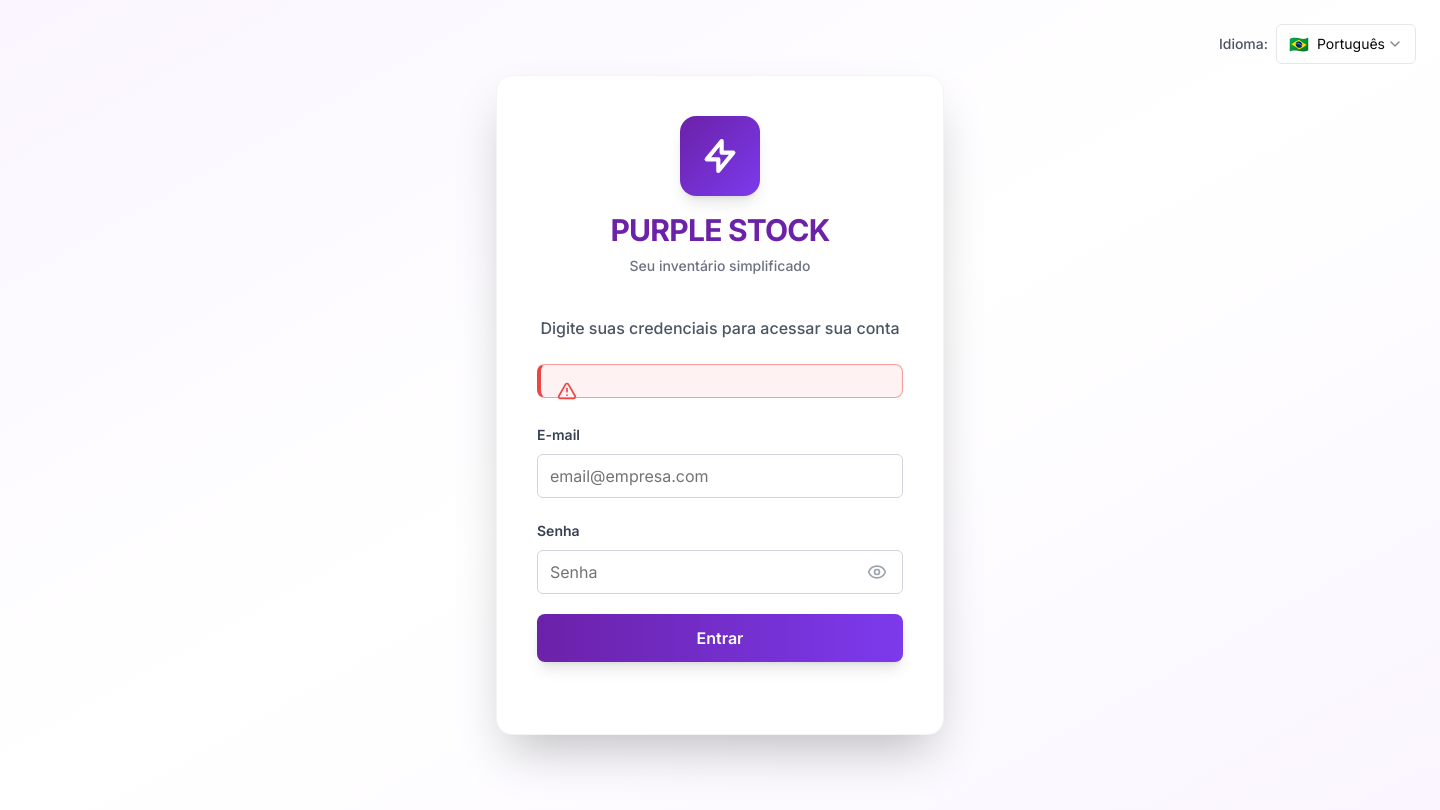
Test: LoginPage › shows invalid credentials only for 401
This screenshot has width=1440, height=810.
Step 1. Type "ariel.graunadigital@gmail.com" into the field labelled "E-mail" → {"x": 720, "y": 476}, box [537,454,903,498]
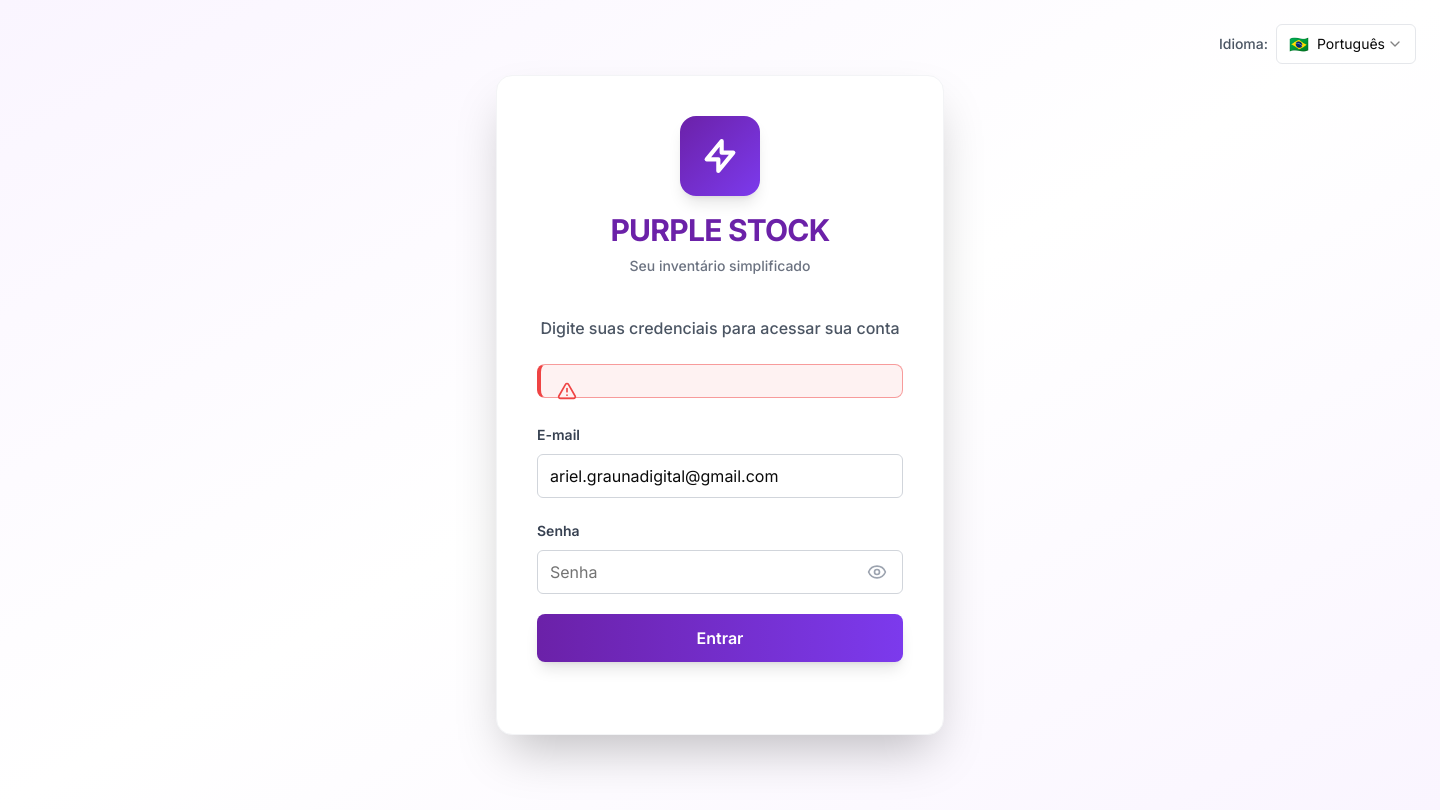
Step 2. Type "wrong-password" into the password field labelled "Senha" → {"x": 720, "y": 572}, box [537,550,903,594]
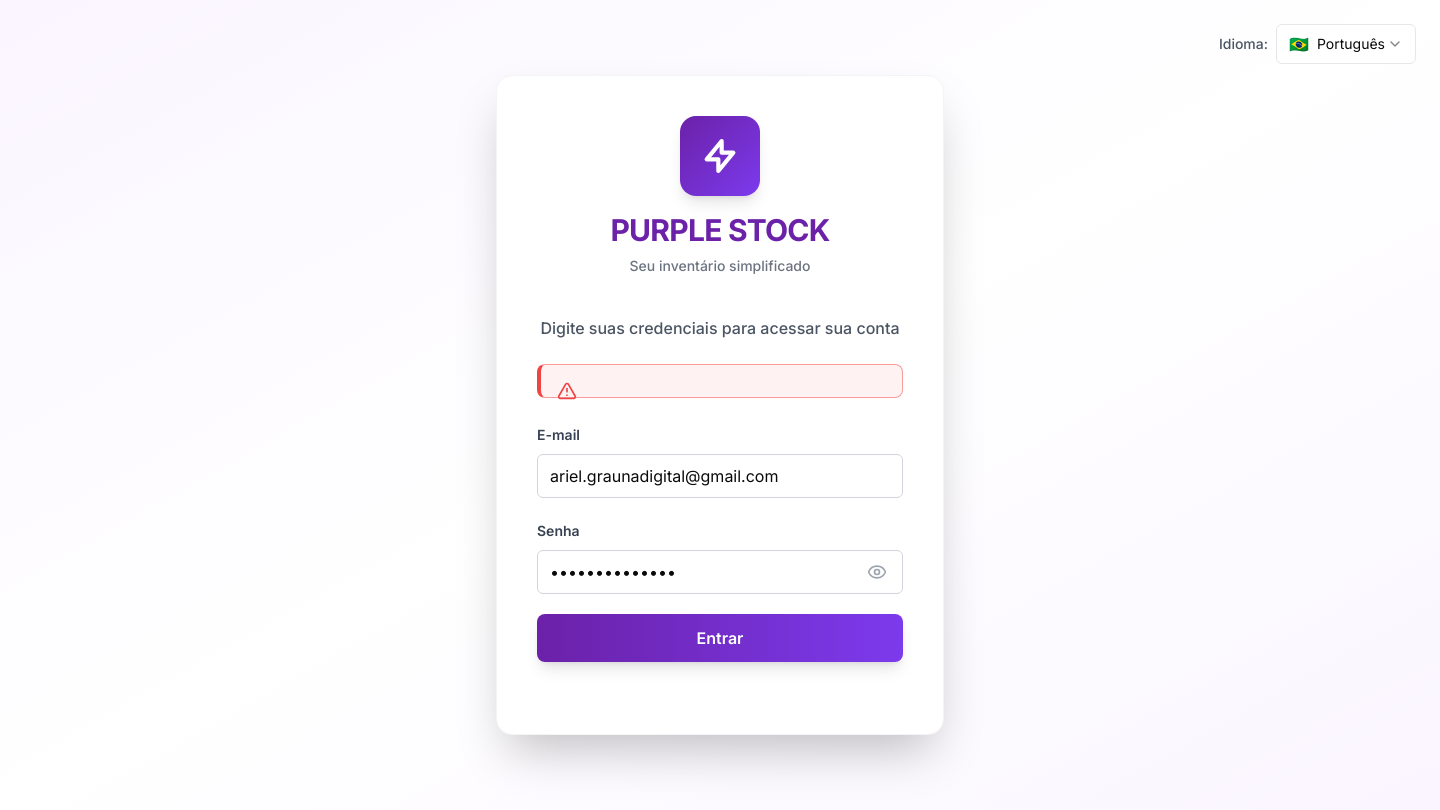
Step 3. Click the button "Entrar" → {"x": 720, "y": 638}, box [537,614,903,662]
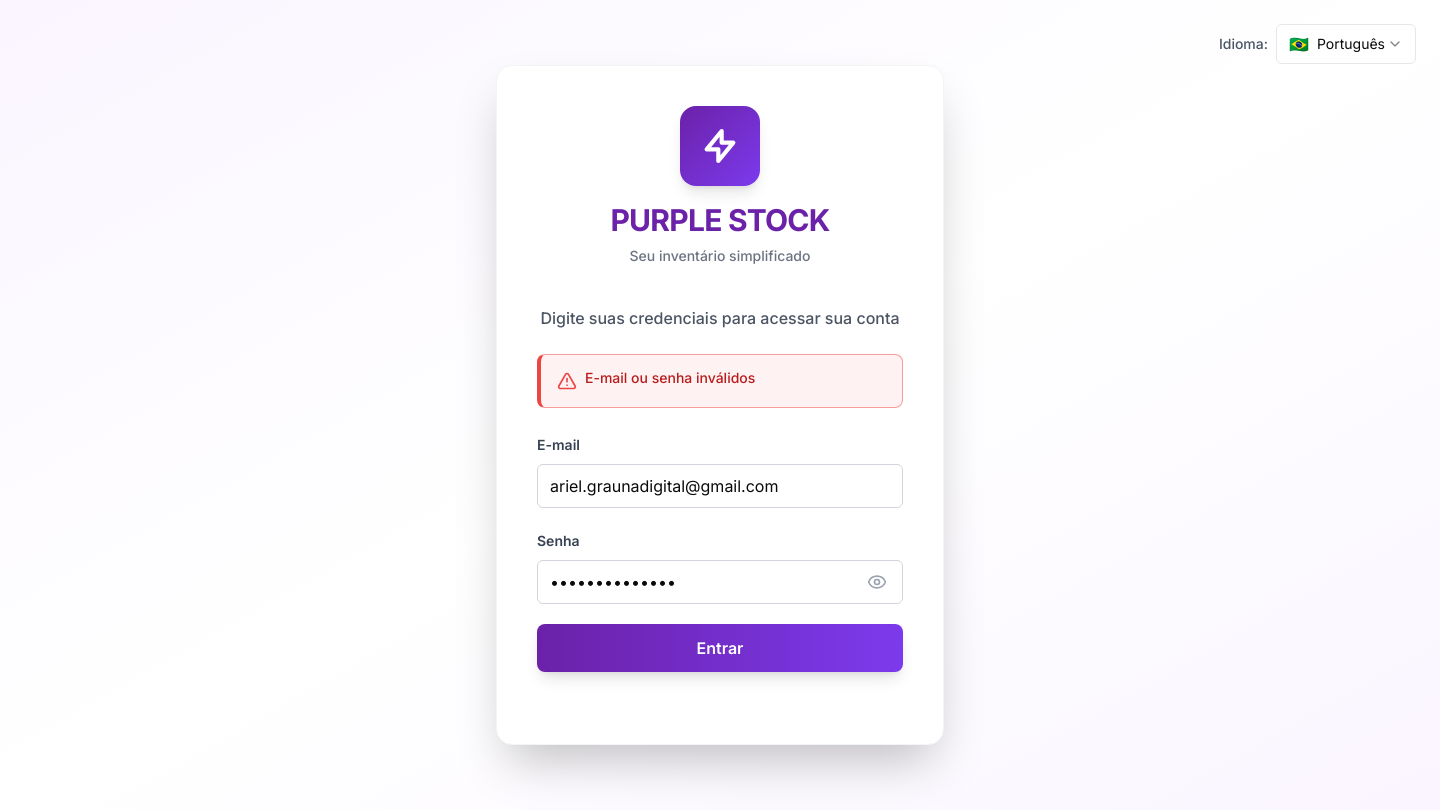
expect the text "E-mail ou senha inválidos" is shown: met, box [585,369,755,386]
